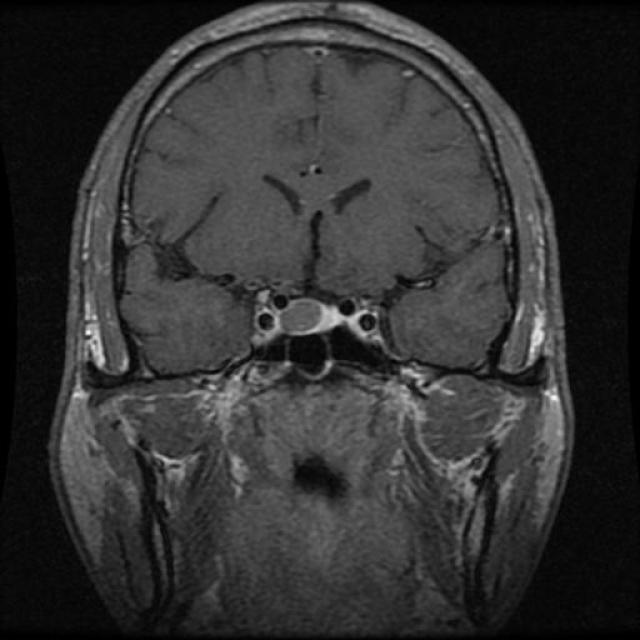pituitary: (271, 288, 377, 349)
